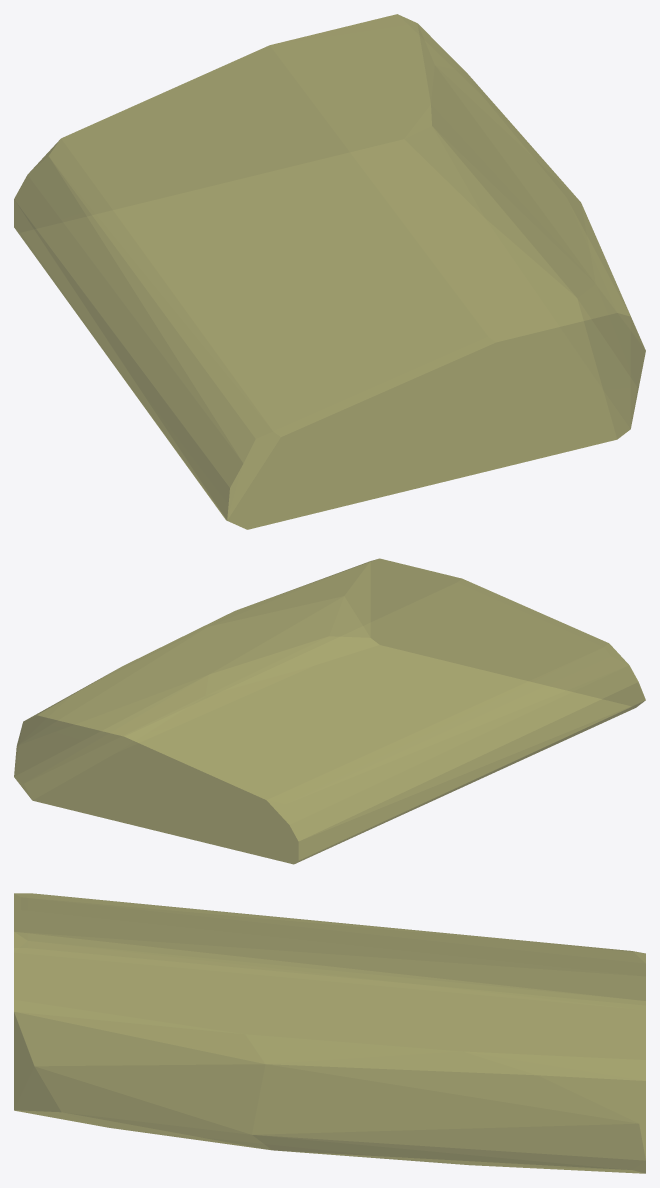
3 views of the same model, one above another, from view 1: azimuth 30°, elevation 25°; view 2: azimuth 150°, elevation 25°; view 3: azimuth 270°, elevation 25° (orthographic). The views are drawn at different scales.
Parts seen in each view (by area): view 1: Shape_IndexedFaceSet.006_Shape_IndexedFaceSet.16315; view 2: Shape_IndexedFaceSet.006_Shape_IndexedFaceSet.16315; view 3: Shape_IndexedFaceSet.006_Shape_IndexedFaceSet.16315.
Part boxes in pixels (x1=…): Shape_IndexedFaceSet.006_Shape_IndexedFaceSet.16315: x1=14, y1=14, x2=645, y2=529; Shape_IndexedFaceSet.006_Shape_IndexedFaceSet.16315: x1=14, y1=558, x2=645, y2=864; Shape_IndexedFaceSet.006_Shape_IndexedFaceSet.16315: x1=14, y1=893, x2=645, y2=1173.
Size of the model in its own units: 0.2172 by 0.0465 by 0.2405.
